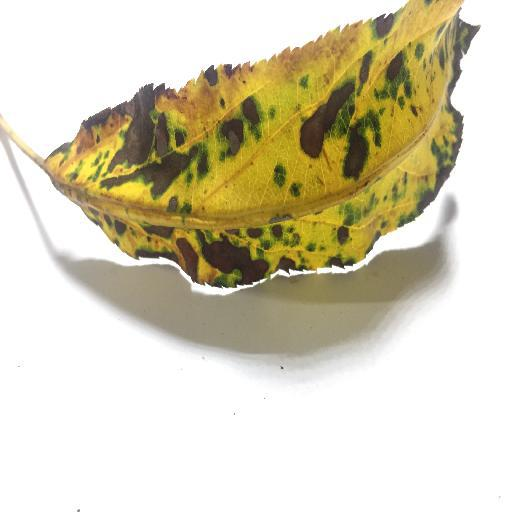Brown_Spot: (78, 112, 254, 203), (88, 216, 297, 286), (292, 82, 345, 161), (354, 20, 423, 80), (329, 221, 351, 245)
